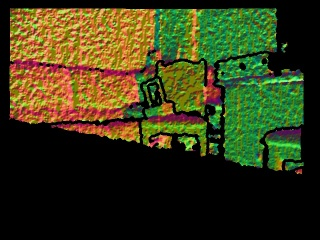station: (141, 78, 175, 117)
